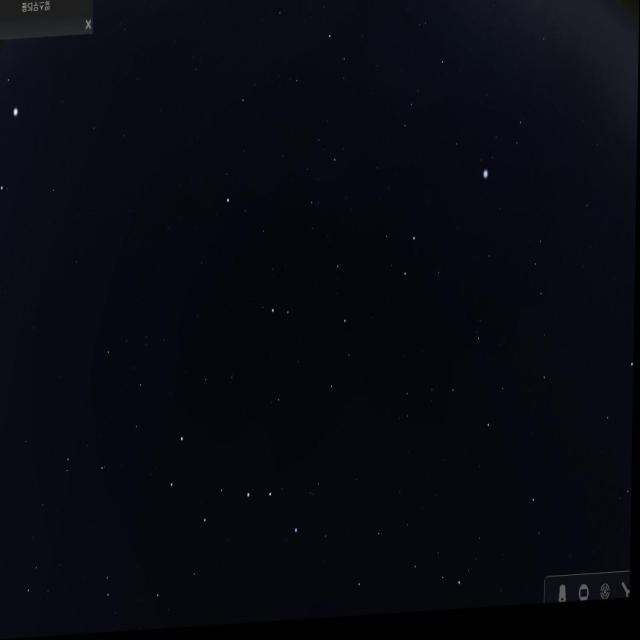lyra: (484, 114, 529, 184)
ursa_major: (166, 410, 306, 558)
